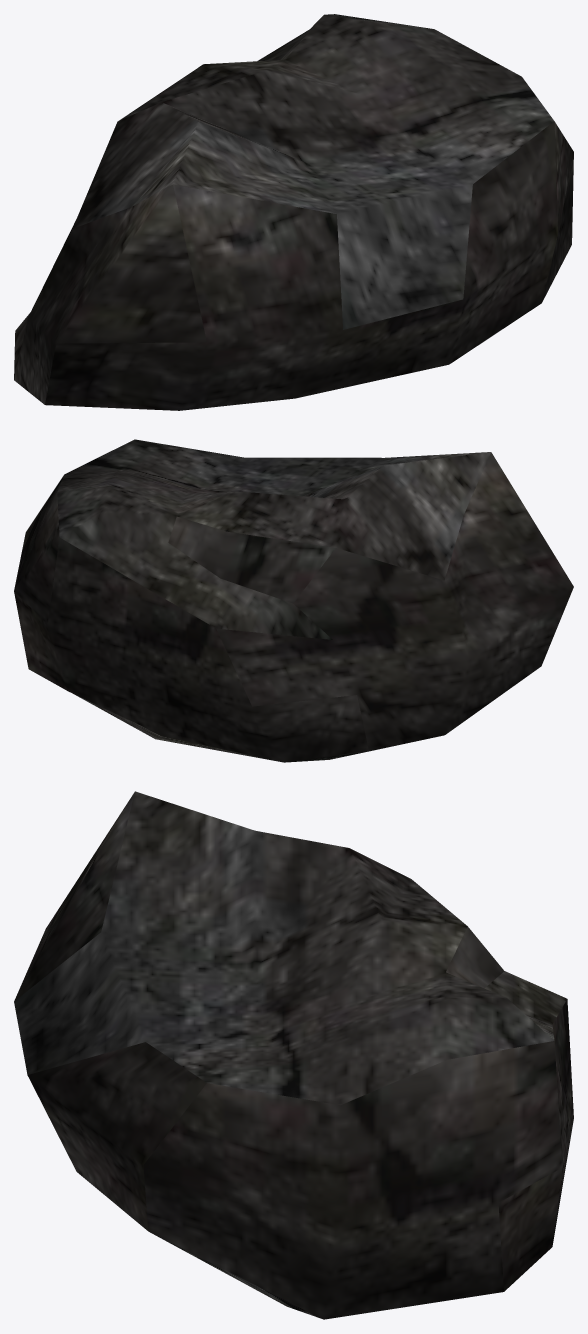
Rendered from Rock 8.glb.
3 renders of one model, top to bottom at view 1: azimuth 30°, elevation 25°; view 2: azimuth 150°, elevation 25°; view 3: azimuth 270°, elevation 25°, orthographic. The views are drawn at different scales.
Visible parts, largest first — view 1: rock_8_low; view 2: rock_8_low; view 3: rock_8_low.
Boxes of the visible parts, left/top/right/bottom form: rock_8_low: left=14, top=14, right=573, bottom=410; rock_8_low: left=14, top=439, right=573, bottom=762; rock_8_low: left=14, top=791, right=573, bottom=1319.
Bounding box in the file's own units: 0.115 × 0.0592 × 0.0837.
1 material, 1 textured.
